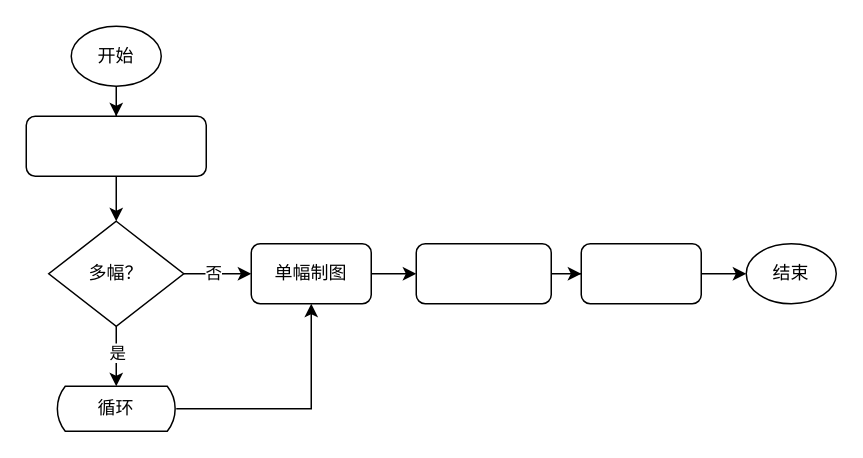
This 863x458 diagram has some shape labels left out. The box of each missing label's shape, as (x1, y1, x2, y2) in pixels:
合并制图图幅: (415, 242, 551, 304)
返回制图文件: (580, 242, 701, 304)
项目分幅分析: (25, 115, 206, 176)
